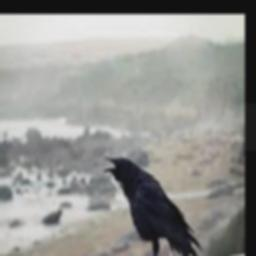Crow: (102, 154, 202, 256)
